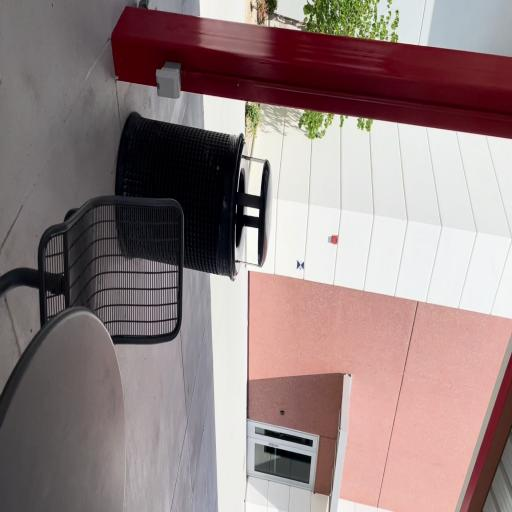target9: (297, 259, 304, 271)
